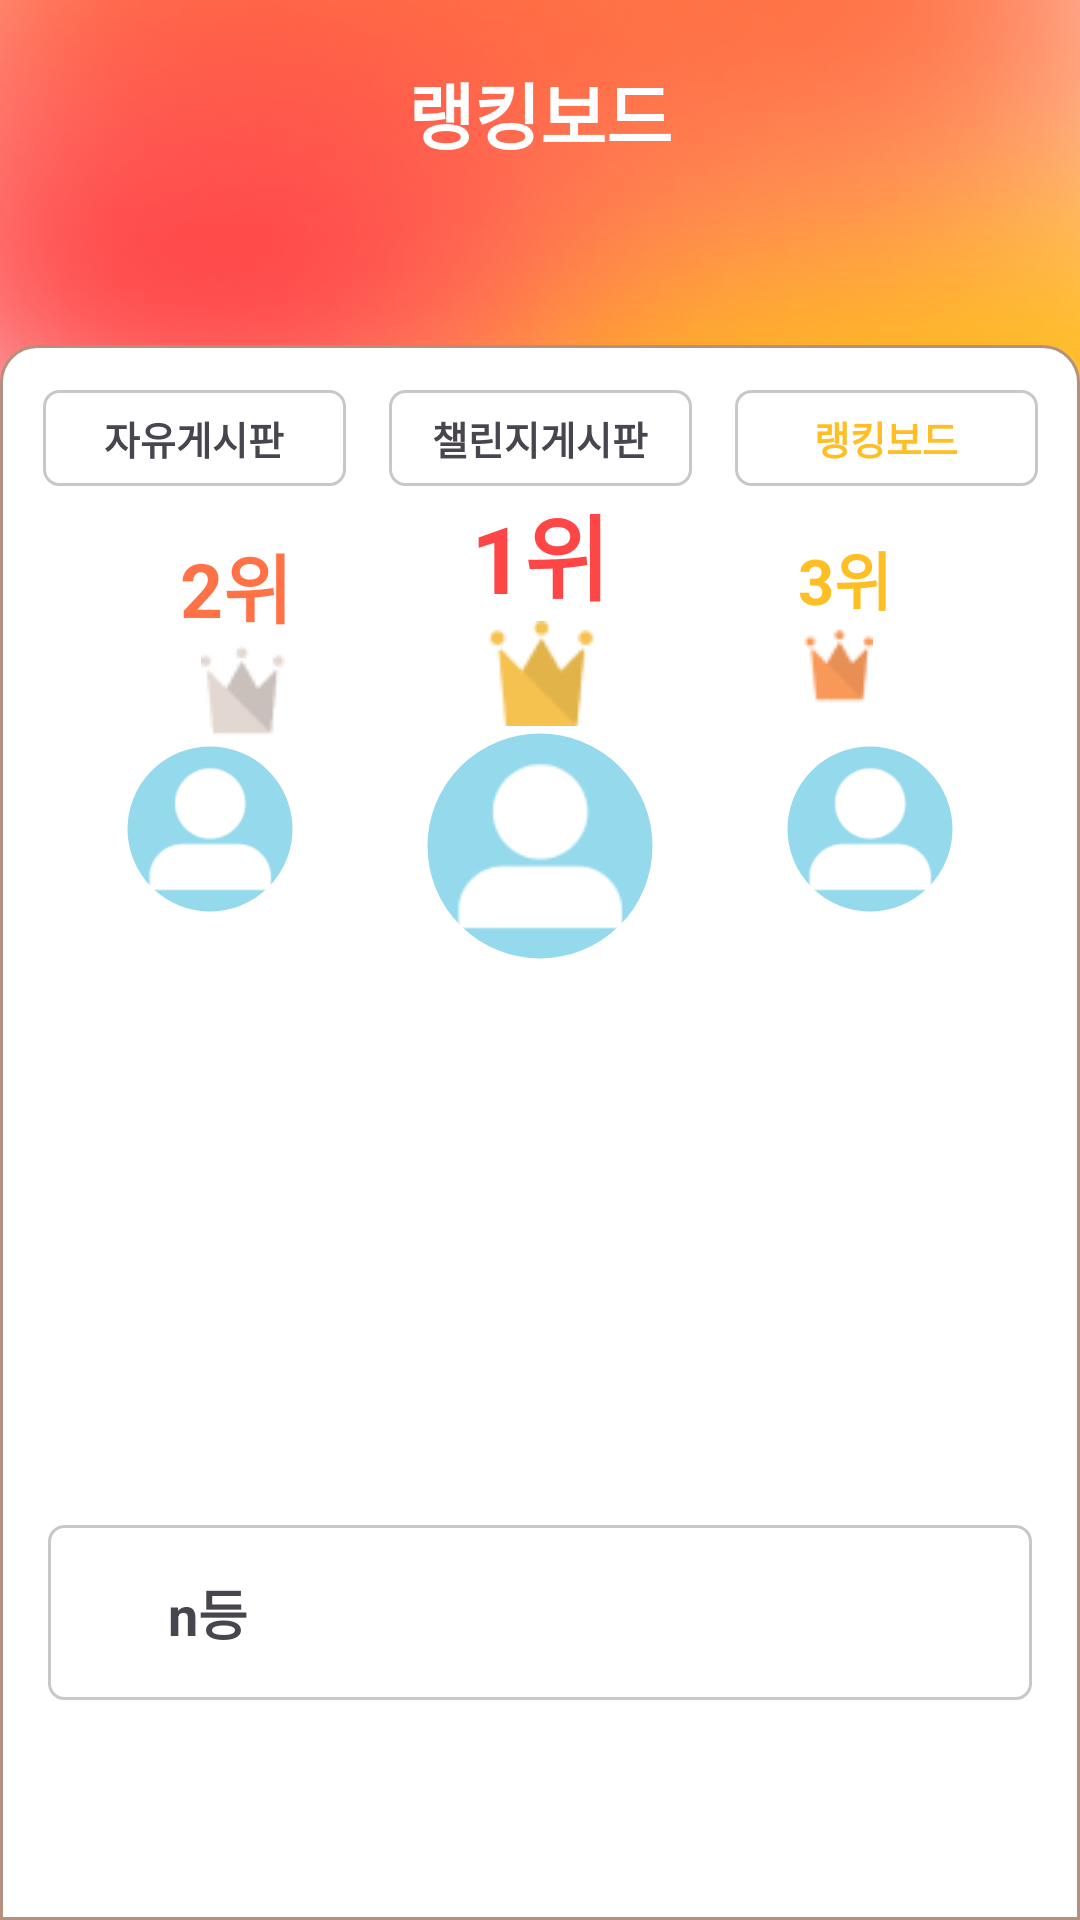

Where icons sit on this 1080w x 1920h app screen, as (x1, y1, x2, y2):
crown bronze: (804, 629, 873, 702)
crown gold: (490, 621, 594, 726)
crown silver: (201, 648, 283, 733)
